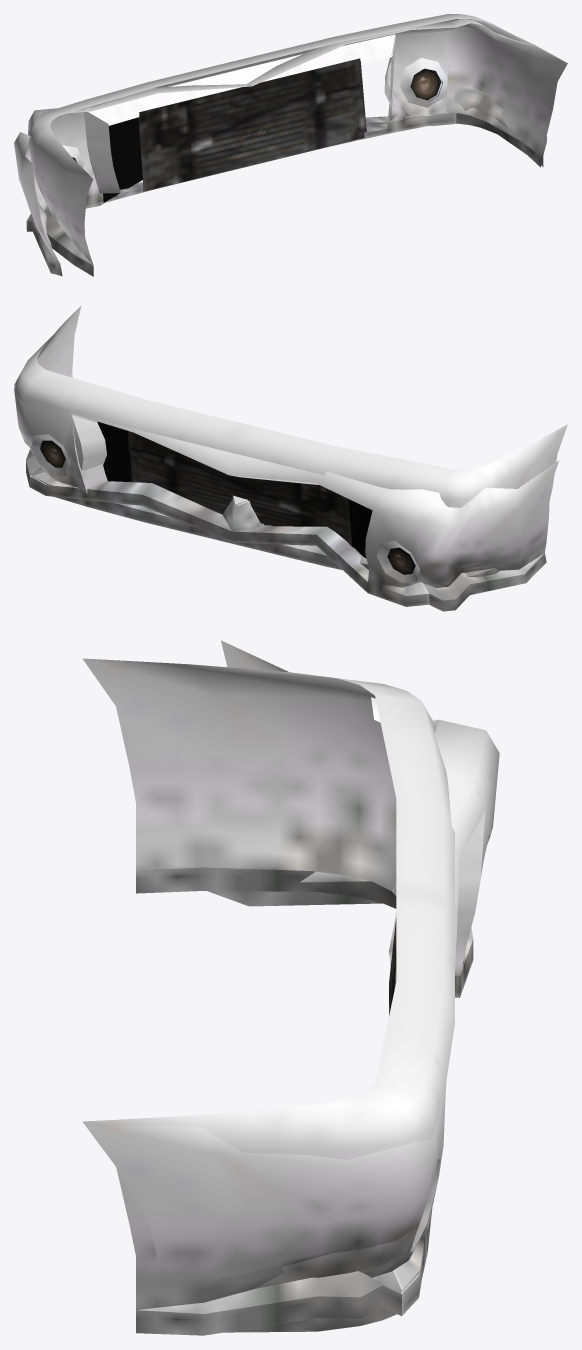
File: fbmp_c_f.glb
3 views of the same model, one above another, from view 1: azimuth 30°, elevation 25°; view 2: azimuth 150°, elevation 25°; view 3: azimuth 270°, elevation 25° (orthographic). The views are drawn at different scales.
Parts seen in each view (by area): view 1: fbmp_c_f, fbmp_c_f_dam; view 2: fbmp_c_f_dam, fbmp_c_f; view 3: fbmp_c_f, fbmp_c_f_dam.
Boxes of the visible parts, x1,y1,x2,y2 form: fbmp_c_f: (28,14,566,276); fbmp_c_f_dam: (14,19,567,276); fbmp_c_f_dam: (14,306,558,611); fbmp_c_f: (14,309,567,578); fbmp_c_f: (82,658,454,1332); fbmp_c_f_dam: (84,640,499,1335).
Size of the model in its own units: 1.99 by 0.4738 by 0.7195.
4 materials, 3 textured.
